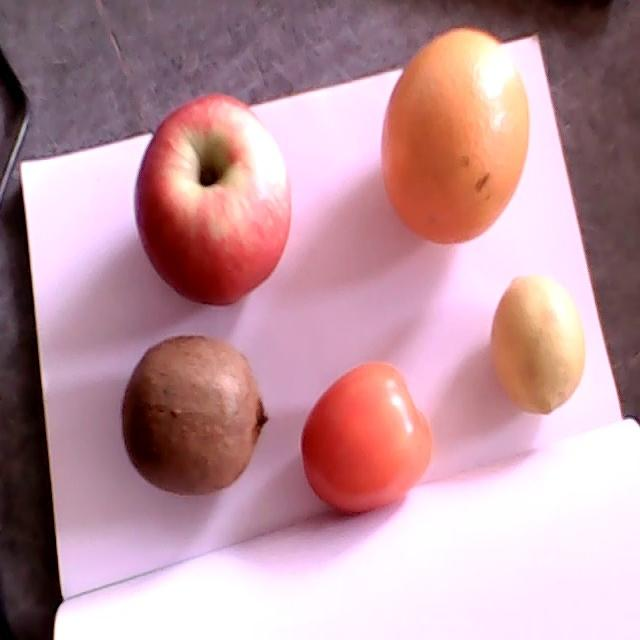apple: (135, 93, 292, 306)
kiwi: (121, 336, 268, 496)
lemon: (490, 277, 584, 415)
orange: (381, 26, 529, 245)
tomato: (302, 362, 432, 516)
